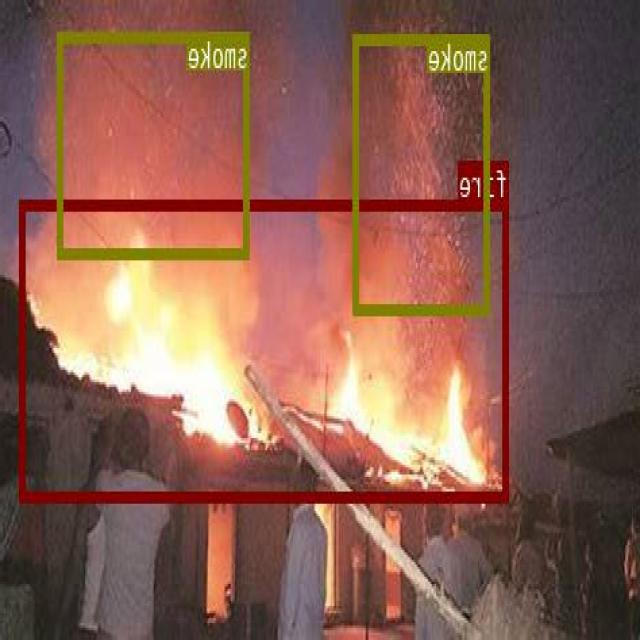fire: (21, 200, 510, 499)
smoke: (59, 30, 251, 257), (354, 34, 492, 314)
